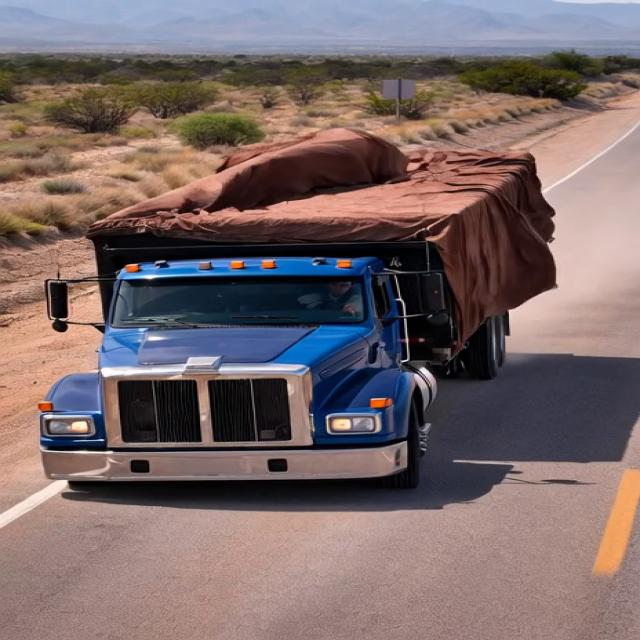Box: (70, 144, 522, 245)
Truck: (27, 132, 615, 496)
